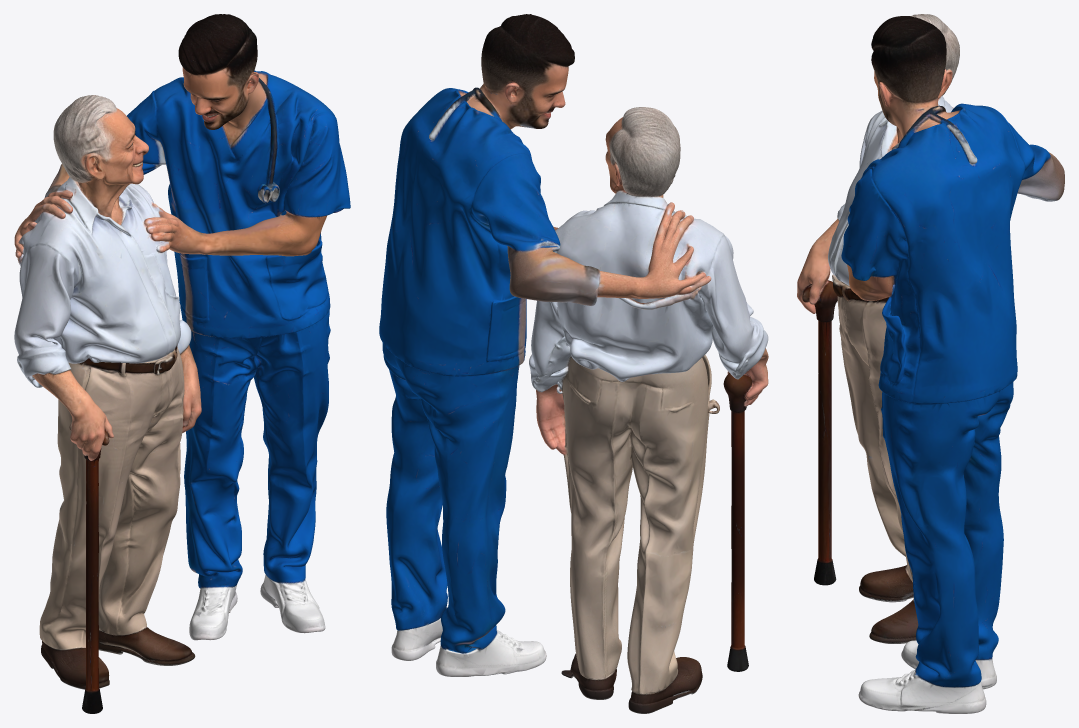
The picture shows the model from 3 angles, left to right: view 1: azimuth 30°, elevation 25°; view 2: azimuth 150°, elevation 25°; view 3: azimuth 270°, elevation 25°; orthographic projection. The views are drawn at different scales.
Bounding box in the file's own units: 1.06 × 1.91 × 0.7157.
Materials: 1 (1 with a texture image).
